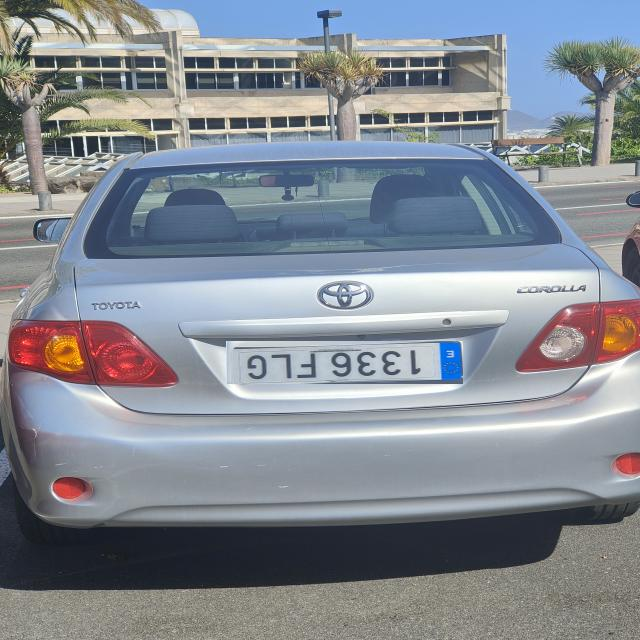License-Plate: (226, 340, 463, 384)
